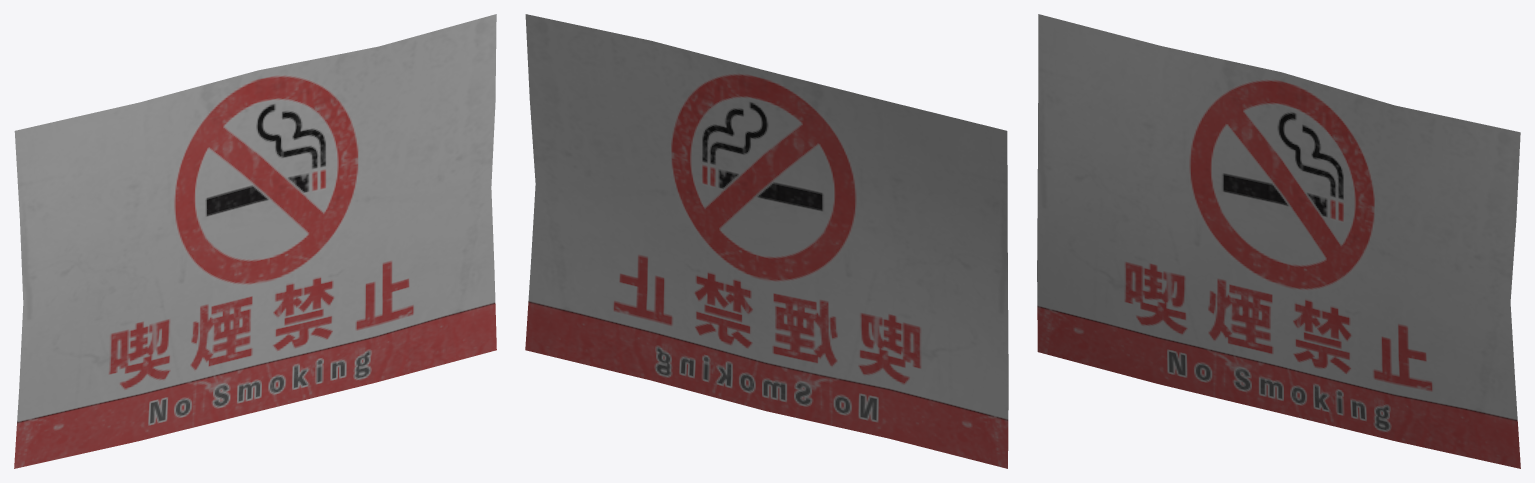
File: posterB.fbx
3 views of the same model, side by side, from view 1: azimuth 30°, elevation 25°; view 2: azimuth 150°, elevation 25°; view 3: azimuth 330°, elevation 25° (orthographic).
Visible parts, largest first — view 1: posterB; view 2: posterB; view 3: posterB.
Boxes of the visible parts, bbox=[...] form: posterB: bbox=[14, 14, 496, 468]; posterB: bbox=[525, 14, 1008, 468]; posterB: bbox=[1037, 14, 1520, 468].
Size of the model in its own units: 29.95 by 20.21 by 0.608.
Materials: 1 (1 with a texture image).
